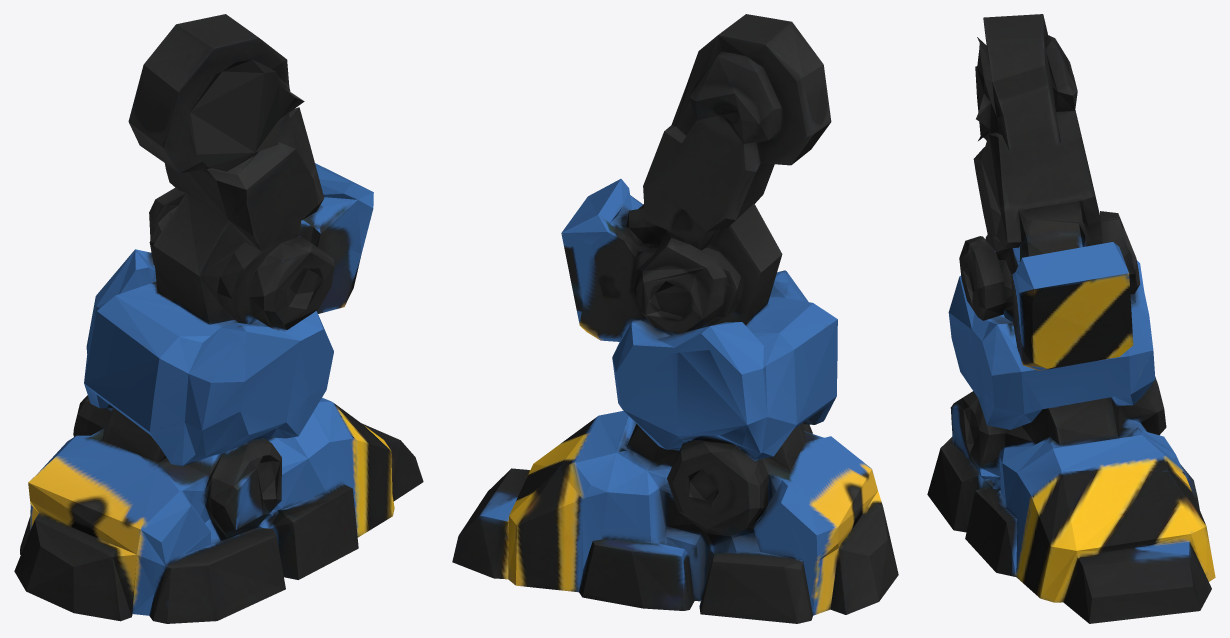
Rendered from SM_HeavyDebris_Leg_L.fbx.
3 renders of one model, left to right at view 1: azimuth 30°, elevation 25°; view 2: azimuth 150°, elevation 25°; view 3: azimuth 270°, elevation 25°, orthographic. The views are drawn at different scales.
Parts seen in each view (by area): view 1: SM_HeavyDebris_Leg_L; view 2: SM_HeavyDebris_Leg_L; view 3: SM_HeavyDebris_Leg_L.
Boxes of the visible parts, box(x1,y1,x2,y2) form: SM_HeavyDebris_Leg_L: box(14, 14, 423, 623); SM_HeavyDebris_Leg_L: box(452, 14, 898, 623); SM_HeavyDebris_Leg_L: box(927, 14, 1215, 623).
Bounding box in the file's own units: 113 × 144 × 76.51.
1 material, 1 textured.
